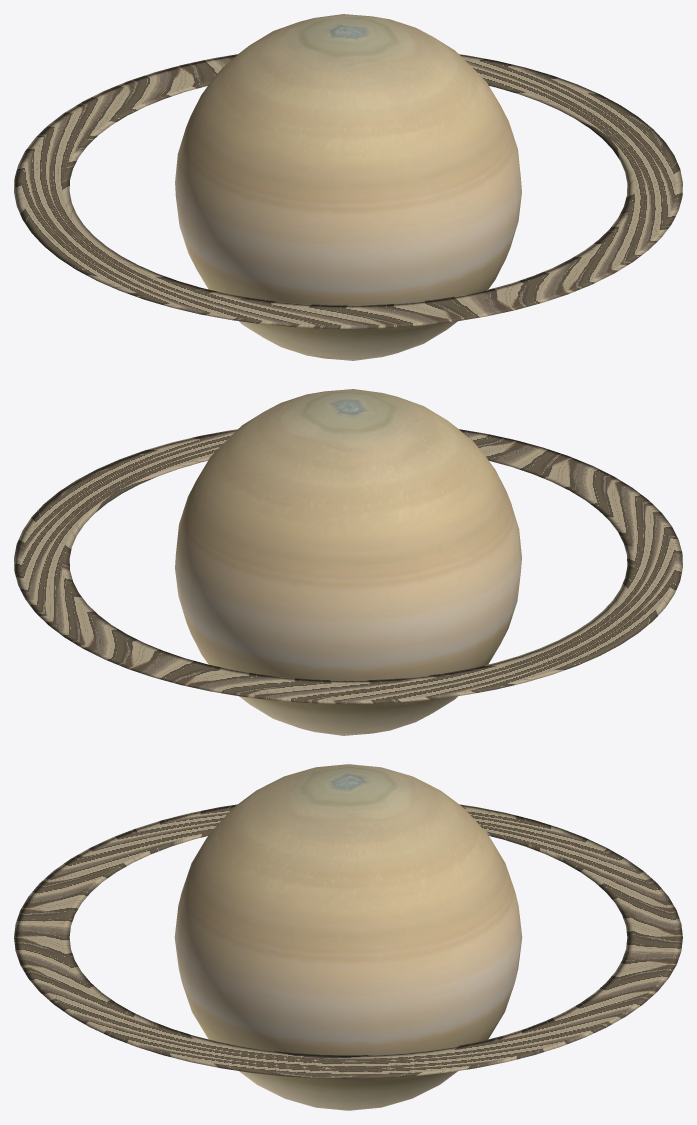
File: SO_Saturnus.glb
3 views of the same model, one above another, from view 1: azimuth 30°, elevation 25°; view 2: azimuth 150°, elevation 25°; view 3: azimuth 270°, elevation 25° (orthographic).
Visible parts, largest first — view 1: SO_Saturnus, SO_SaturnRIng; view 2: SO_Saturnus, SO_SaturnRIng; view 3: SO_Saturnus, SO_SaturnRIng.
Part boxes in pixels (bbox=[...]): SO_Saturnus: bbox=[175, 14, 521, 360]; SO_SaturnRIng: bbox=[14, 54, 682, 328]; SO_Saturnus: bbox=[175, 389, 521, 735]; SO_SaturnRIng: bbox=[14, 429, 682, 703]; SO_Saturnus: bbox=[174, 764, 522, 1110]; SO_SaturnRIng: bbox=[14, 804, 682, 1078].
Size of the model in its own units: 5.77 by 3 by 5.77.
Materials: 2 (2 with a texture image).
